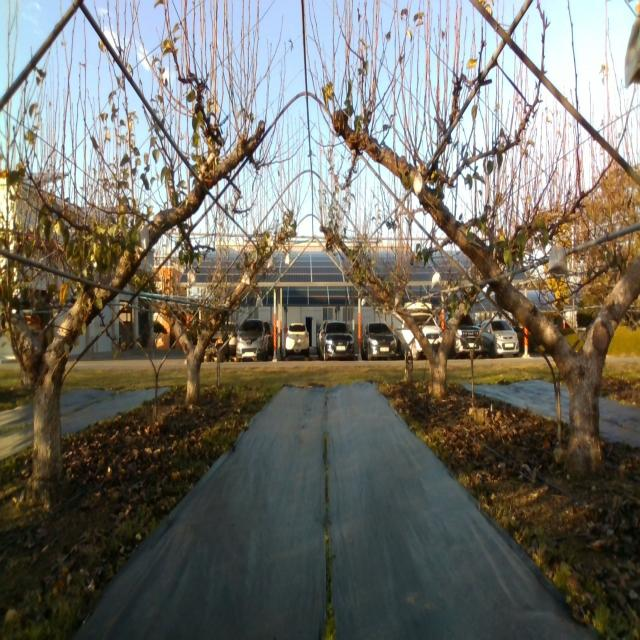pearbags: (546, 243, 570, 279), (431, 272, 443, 291)
